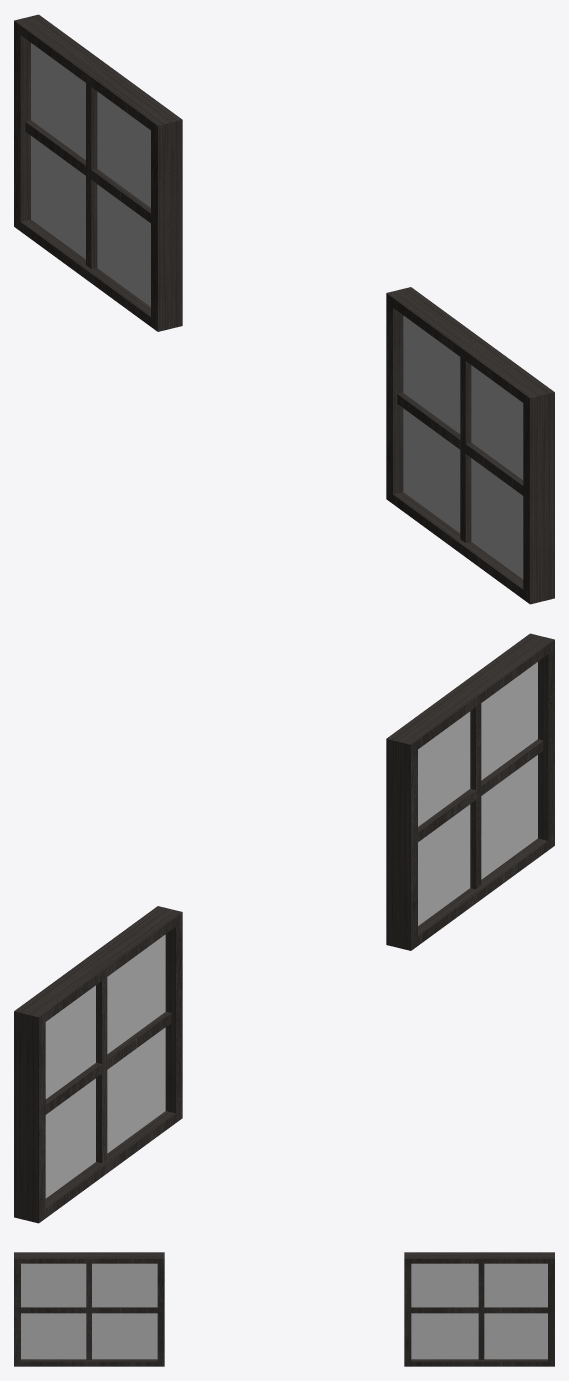
The model's file is ventana.dae.
3 renders of one model, top to bottom at view 1: azimuth 30°, elevation 25°; view 2: azimuth 150°, elevation 25°; view 3: azimuth 270°, elevation 25°, orthographic. The views are drawn at different scales.
Visible parts, largest first — view 1: node; view 2: node; view 3: node.
Part boxes in pixels (left/top/right/bottom): node: left=14, top=14, right=554, bottom=604; node: left=14, top=633, right=554, bottom=1223; node: left=14, top=1252, right=554, bottom=1366.
Bounding box in the file's own units: 124 × 985 × 4468.
